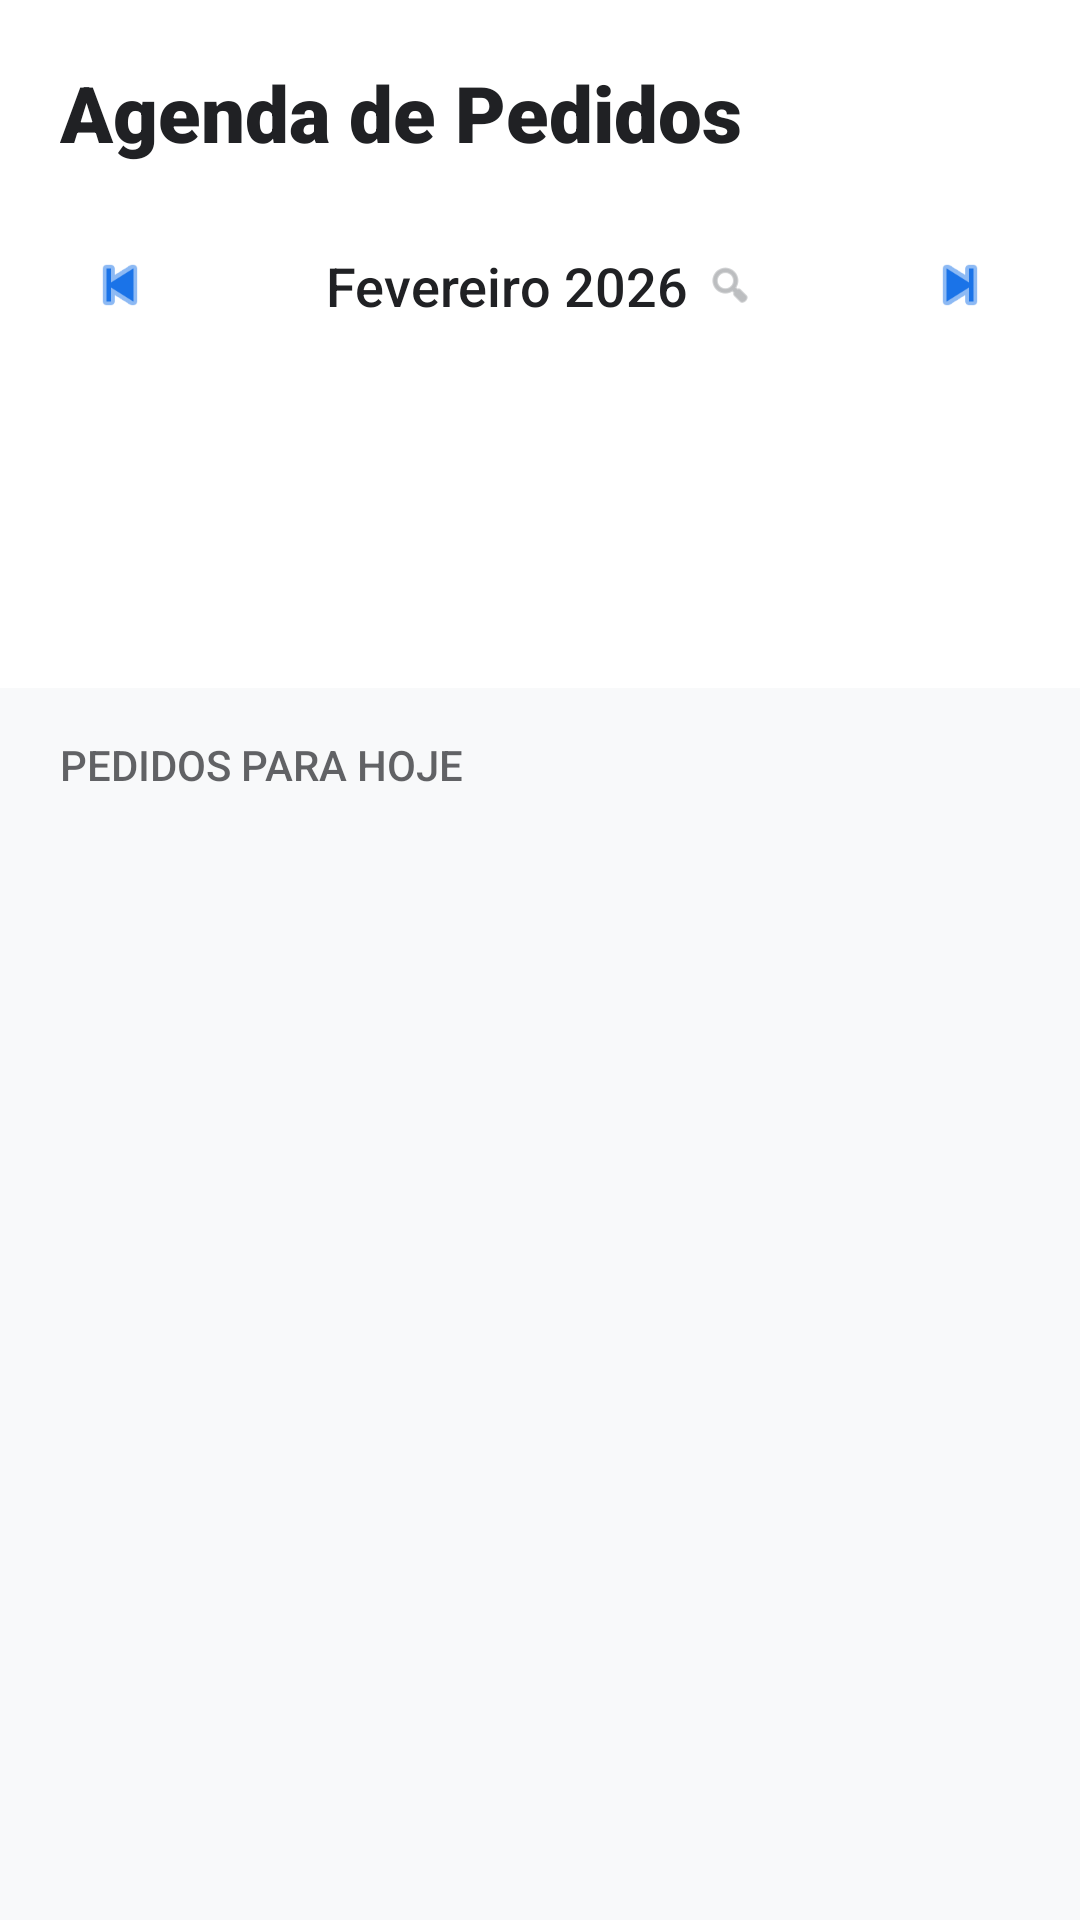

Locate icon controls on the screen. Image size 1080px×1920px, boxes as (x1, y1, x2, y2).
next: (943, 265, 977, 305)
previous: (103, 265, 137, 305)
search: (712, 268, 748, 303)
